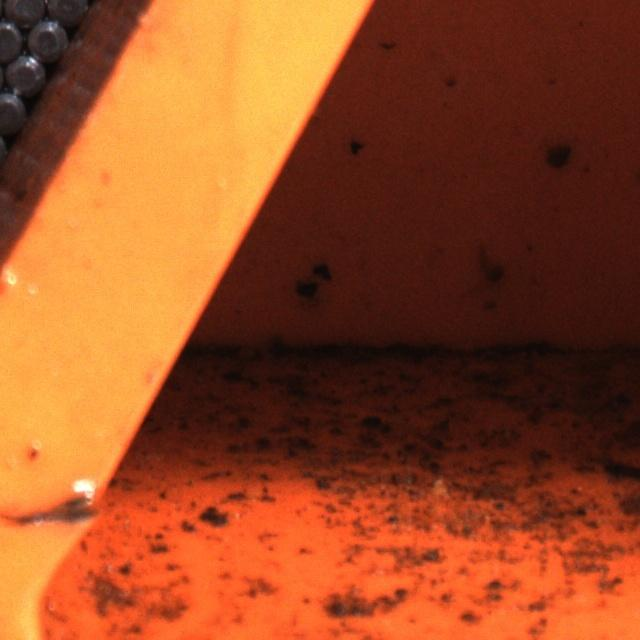tool: (4, 50, 46, 92), (26, 15, 68, 56), (0, 88, 23, 130), (0, 16, 23, 57), (47, 0, 88, 21), (4, 0, 44, 20)
